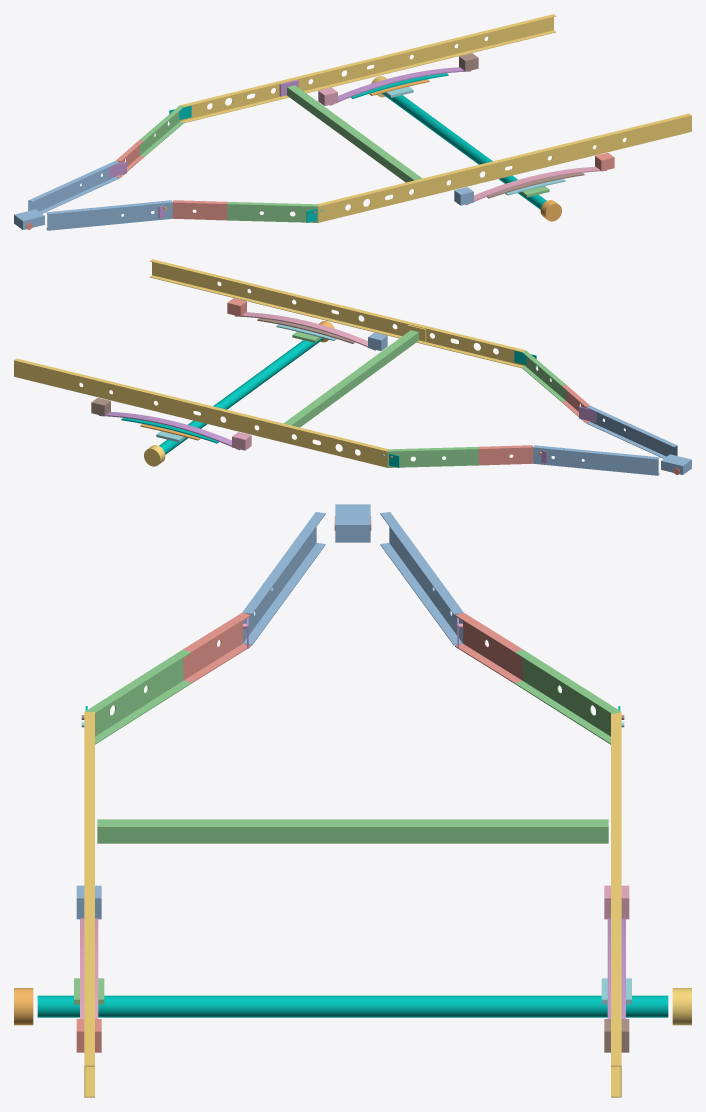
The model's file is with_new_axle.glb.
The picture shows the model from 3 angles, top to bottom: view 1: azimuth 30°, elevation 25°; view 2: azimuth 150°, elevation 25°; view 3: azimuth 270°, elevation 25°; orthographic projection. The views are drawn at different scales.
Visible parts, largest first — view 1: part_3, part_13, part_0, =>[0:1:1:61], part_10, =>[0:1:1:70], part_2, part_1, part_12, =>[0:1:1:75], =>[0:1:1:93], =>[0:1:1:55] (+4 smaller); view 2: part_13, part_3, part_10, =>[0:1:1:61], part_0, =>[0:1:1:70], part_12, part_11, part_2, =>[0:1:1:93], =>[0:1:1:75], =>[0:1:1:55] (+4 smaller); view 3: =>[0:1:1:70], =>[0:1:1:61], part_3, part_13, part_12, part_2, part_0, part_10, part_1, part_11, =>[0:1:1:55], =>[0:1:1:75] (+1 smaller).
Part boxes in pixels (x1,y1,x2,y2): part_3: [317, 113, 691, 222]; part_13: [180, 14, 556, 123]; part_0: [46, 200, 172, 230]; =>[0:1:1:61]: [287, 85, 422, 182]; part_10: [28, 160, 119, 213]; =>[0:1:1:70]: [382, 93, 546, 209]; part_2: [227, 202, 318, 222]; part_1: [172, 200, 227, 220]; part_12: [139, 105, 184, 156]; =>[0:1:1:75]: [474, 167, 595, 199]; =>[0:1:1:93]: [338, 67, 459, 100]; =>[0:1:1:55]: [14, 209, 44, 229]; part_13: [14, 358, 388, 467]; part_3: [149, 259, 525, 368]; part_10: [533, 445, 659, 475]; =>[0:1:1:61]: [283, 330, 418, 427]; part_0: [586, 405, 677, 458]; =>[0:1:1:70]: [159, 338, 323, 454]; part_12: [387, 447, 478, 467]; part_11: [478, 445, 533, 465]; part_2: [521, 350, 566, 401]; =>[0:1:1:93]: [110, 412, 231, 444]; =>[0:1:1:75]: [246, 312, 367, 345]; =>[0:1:1:55]: [661, 454, 691, 474]; =>[0:1:1:70]: [37, 995, 668, 1017]; =>[0:1:1:61]: [97, 819, 608, 843]; part_3: [84, 712, 94, 1097]; part_13: [611, 712, 621, 1097]; part_12: [514, 649, 620, 744]; part_2: [85, 649, 191, 744]; part_0: [242, 512, 325, 645]; part_10: [380, 512, 463, 645]; part_1: [183, 612, 250, 683]; part_11: [455, 612, 522, 683]; =>[0:1:1:55]: [335, 504, 370, 542]; =>[0:1:1:75]: [80, 921, 98, 1018].
Bounding box in the file's own units: 3865 × 333 × 1935.
